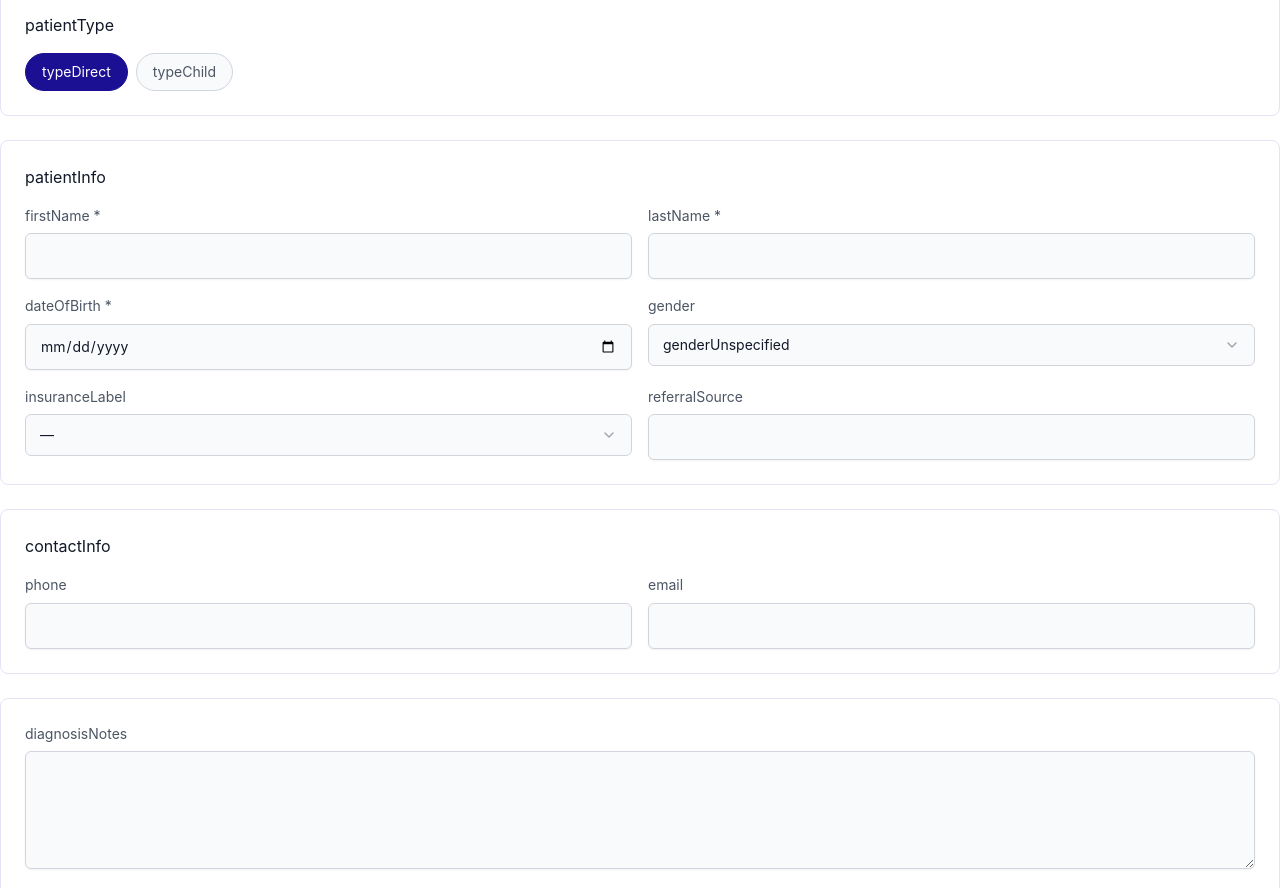
Test: PatientForm › shows consent validation error when submitting without consent
Note: Fill required textbox fields (firstName, lastName at minimum)
Type "Test" into the field below "firstName" at (328,256), box [25,233,632,279]
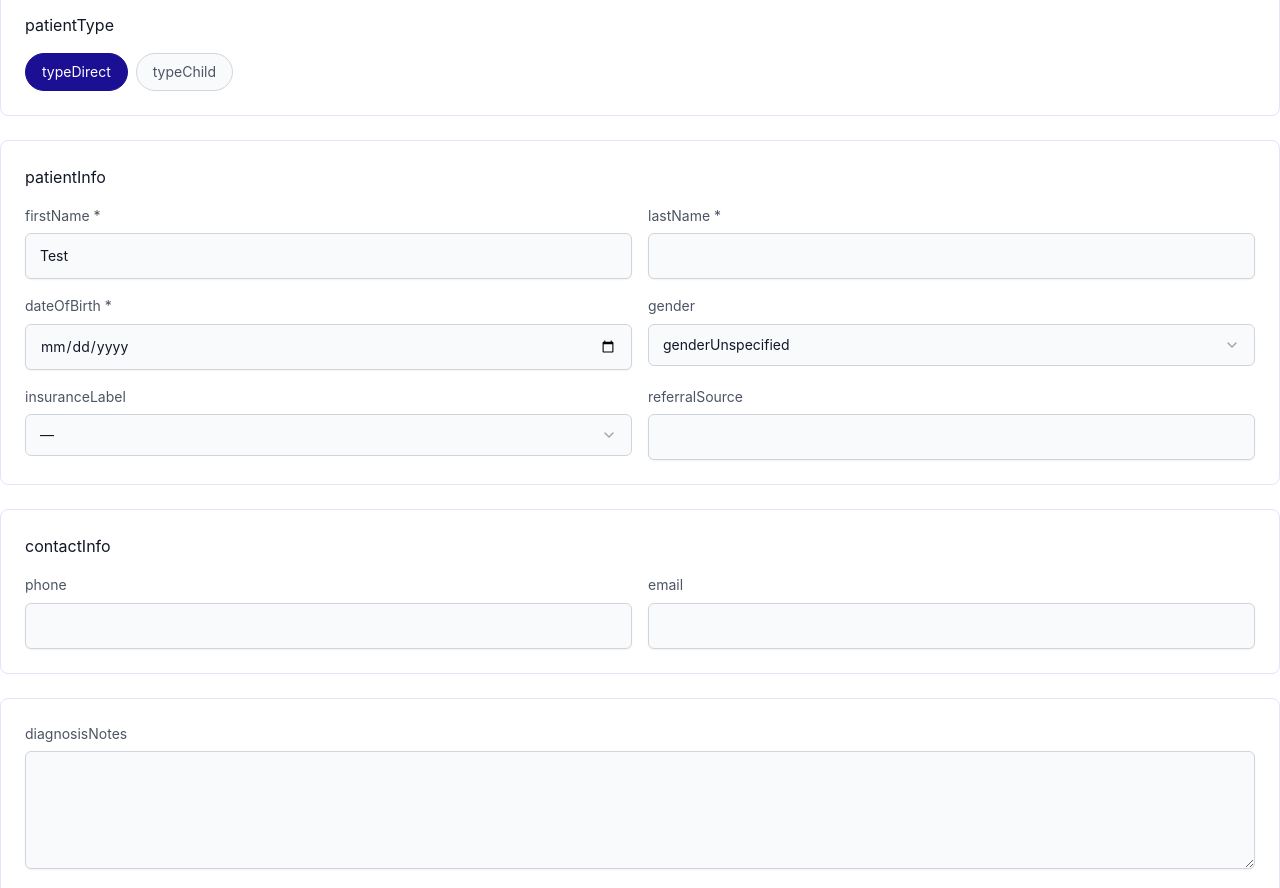
Type "Patient" into the field below "lastName" at (952,256), box [648,233,1255,279]
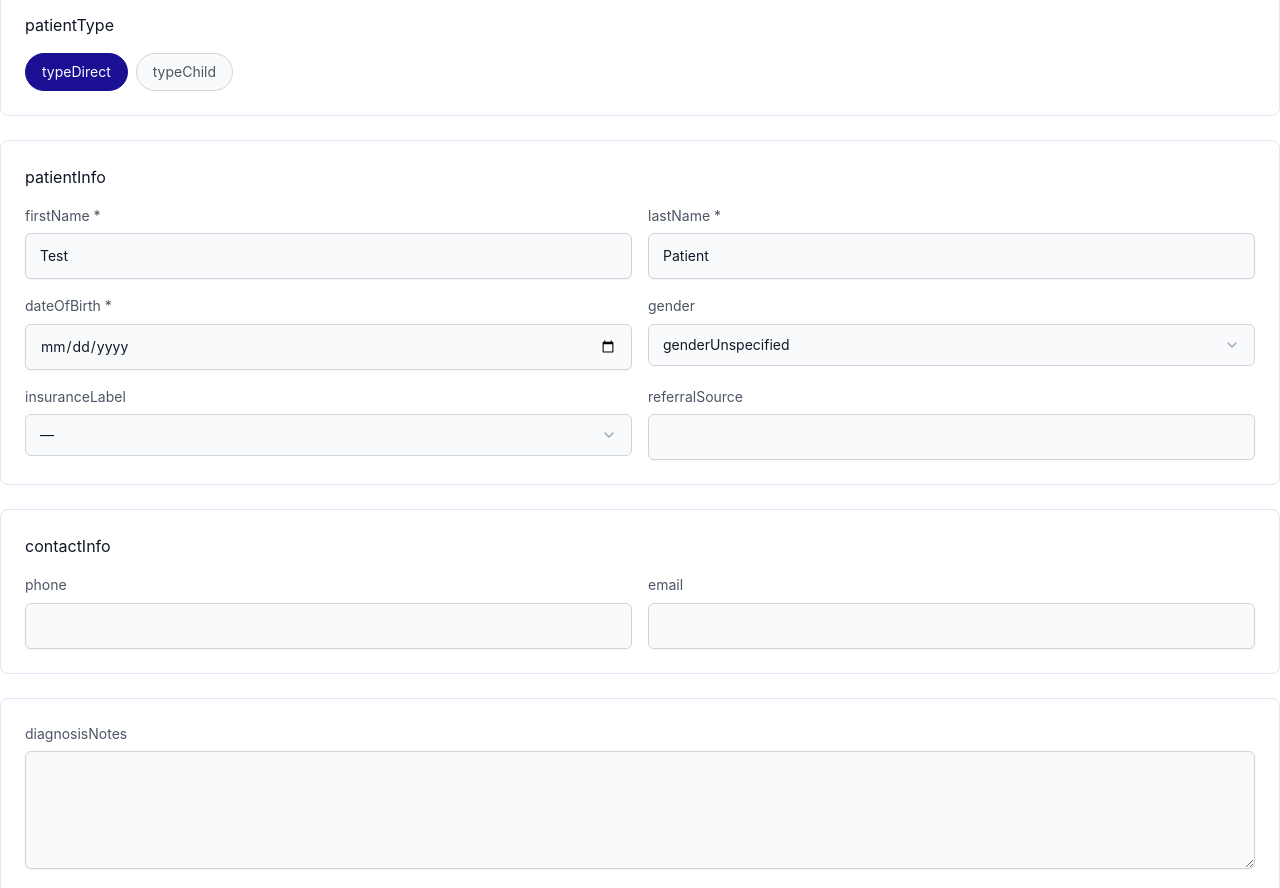
Note: Fill date of birth
Type "2000-01-01" into the date field at (328,347), box [25,324,632,370]
(page scrolled)
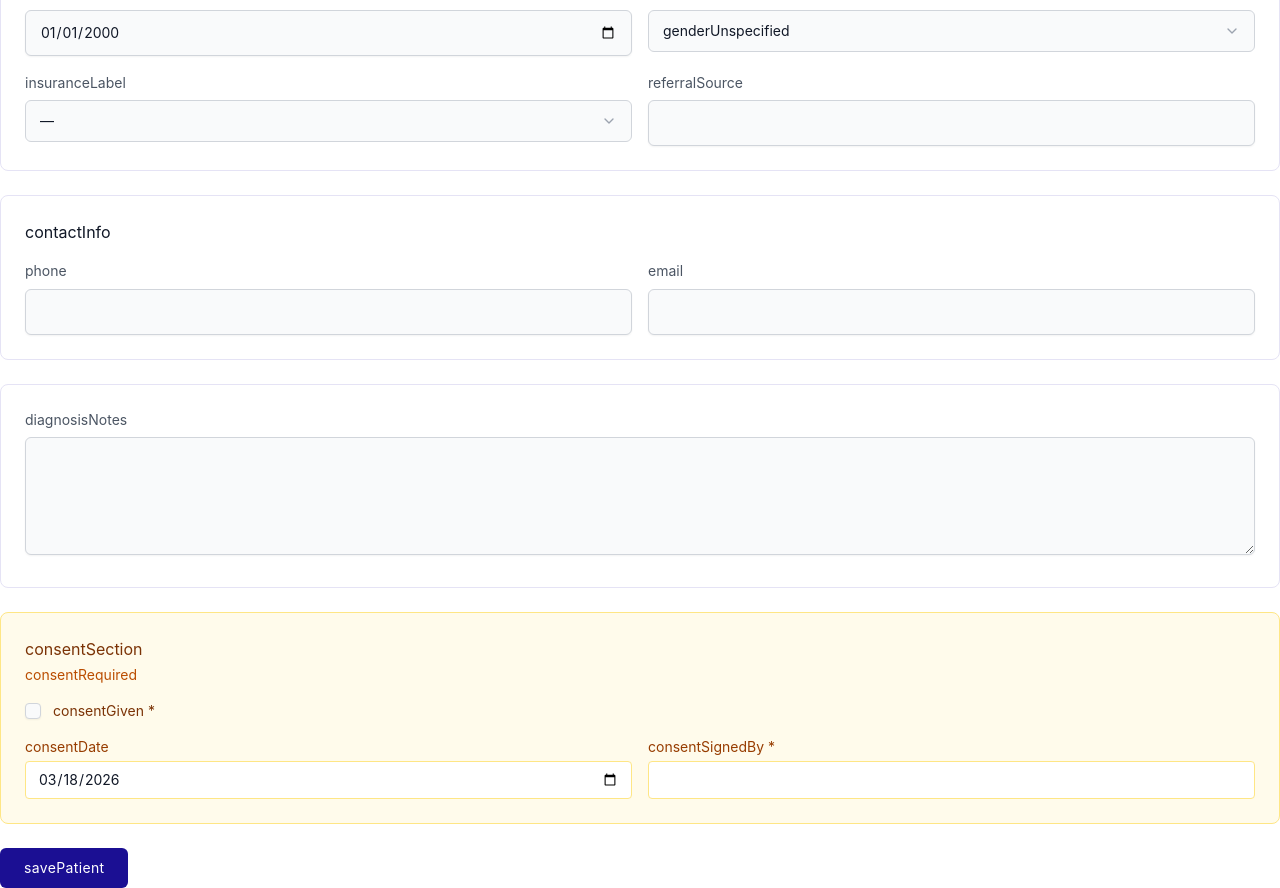
Note: Do NOT check the consent checkbox
Click the button "savePatient" at (64,868), box [0,848,128,887]
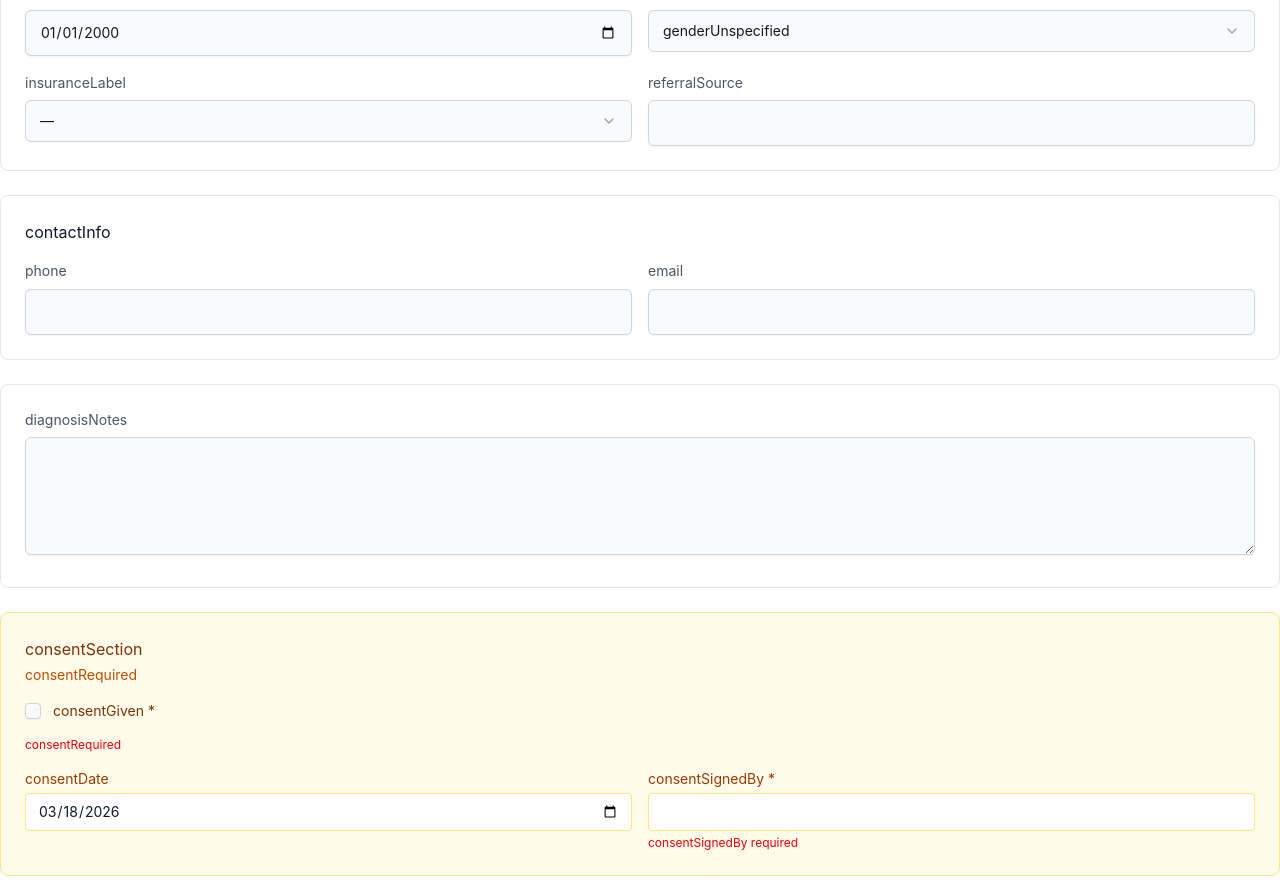
Now the text "consentRequired" below "consentGiven" is shown, box [25,736,121,752]
